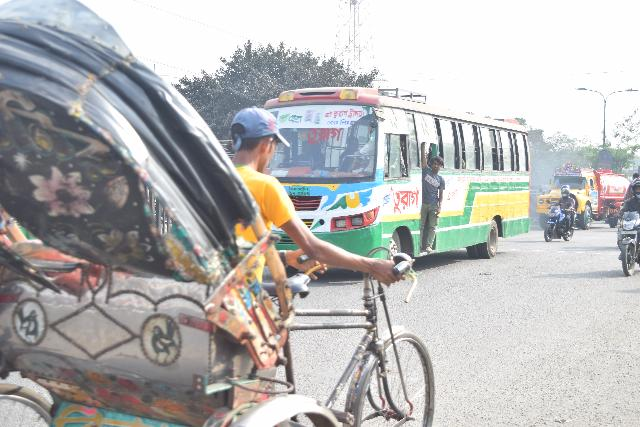bus: (250, 85, 533, 272)
motorcycle: (604, 192, 640, 280), (538, 195, 579, 245)
truck: (537, 157, 630, 225)
